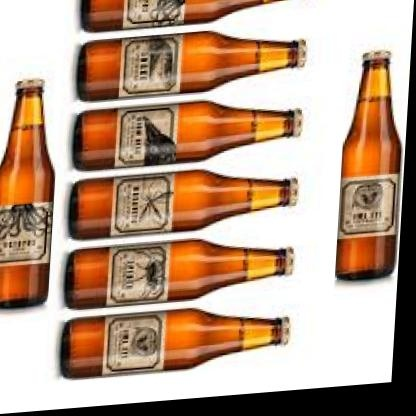trash: (61, 309, 288, 377), (74, 101, 301, 169), (78, 32, 304, 100), (70, 170, 296, 238), (66, 240, 292, 307), (336, 51, 400, 278), (0, 80, 53, 306), (81, 0, 278, 31)
